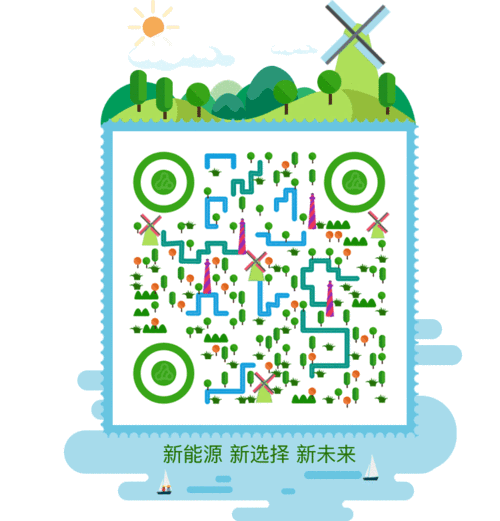QRCode: (127, 144, 391, 408)
